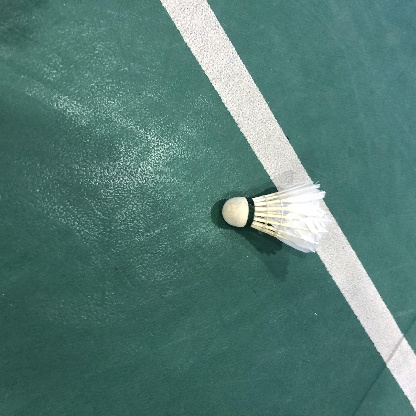ball_single: (222, 182, 330, 253)
